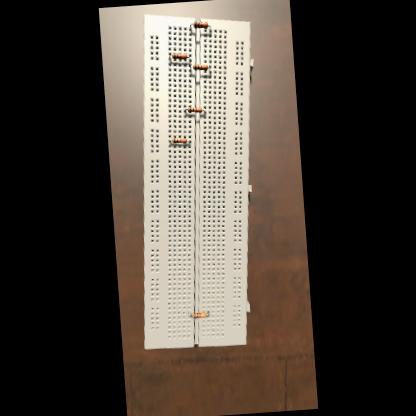breadboard: (121, 6, 273, 351)
resistor: (192, 20, 208, 29), (172, 51, 187, 60), (172, 136, 186, 144), (193, 62, 207, 70), (188, 105, 202, 112), (192, 311, 206, 317)
wire: (188, 310, 192, 314), (169, 55, 172, 60), (184, 109, 188, 112), (190, 22, 192, 28), (208, 66, 210, 72), (188, 56, 190, 61), (206, 311, 209, 314), (168, 140, 172, 142), (190, 66, 192, 70), (187, 140, 190, 142), (209, 24, 210, 30), (202, 110, 204, 112)
